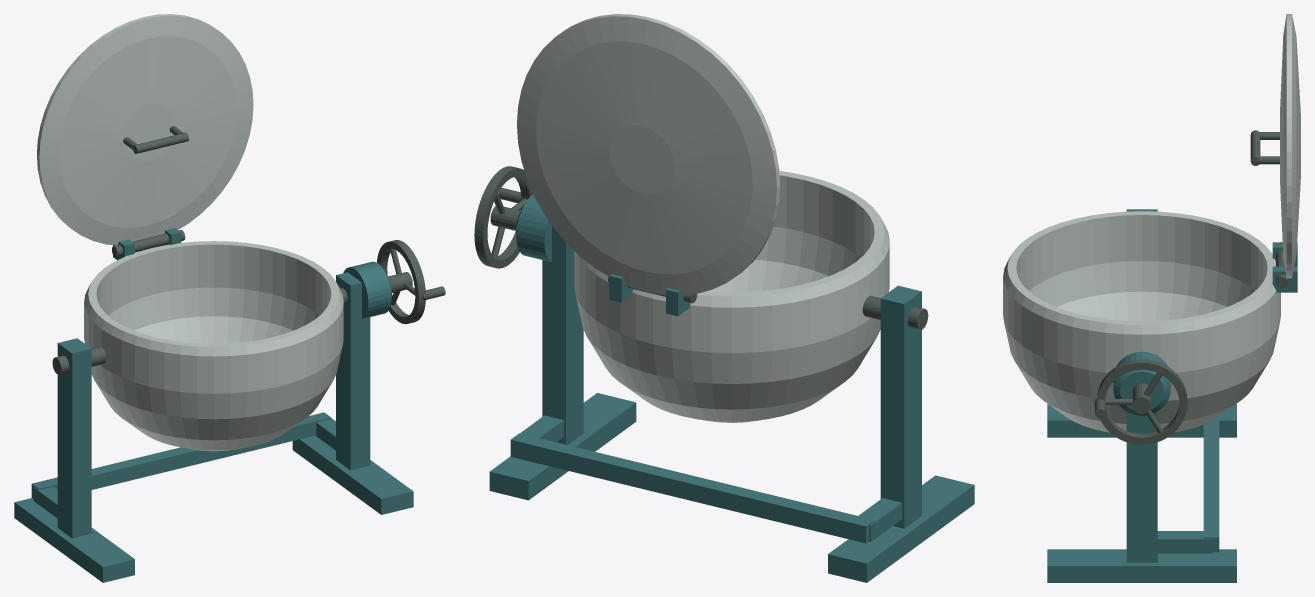
3 renders of one model, left to right at view 1: azimuth 30°, elevation 25°; view 2: azimuth 150°, elevation 25°; view 3: azimuth 270°, elevation 25°, orthographic. The views are drawn at different scales.
Visible parts, largest first — view 1: WholeThickRoundedBowlAndEmptyInterior, WholeRaisedShallowDomedLid, WholeLeftTrunnionEndPost, WholeRightTrunnionEndPost, WholeRearLowCrossbar, WholeLeftForeAftGroundFoot, WholeRightForeAftGroundFoot, WholeSideControlCase, WholeOpenHandwheelRim, WholeTransverseRearHingePin; view 2: WholeRaisedShallowDomedLid, WholeThickRoundedBowlAndEmptyInterior, WholeRearLowCrossbar, WholeLeftTrunnionEndPost, WholeRightTrunnionEndPost, WholeLeftForeAftGroundFoot, WholeRightForeAftGroundFoot, WholeOpenHandwheelRim, WholeSideControlCase, WholeLeftRearFootConnector, WholeLeftFixedSideTrunnion, WholeRightRearFootConnector; view 3: WholeThickRoundedBowlAndEmptyInterior, WholeRightForeAftGroundFoot, WholeRaisedShallowDomedLid, WholeRightTrunnionEndPost, WholeOpenHandwheelRim, WholeRearLowCrossbar, WholeLeftForeAftGroundFoot, WholeSideControlCase, WholeRightRearFootConnector, WholeHandwheelHub, WholeRightRearHingeBracket.
Boxes of the visible parts, left/top/right/bottom form: WholeThickRoundedBowlAndEmptyInterior: left=84, top=241, right=343, bottom=451; WholeRaisedShallowDomedLid: left=37, top=14, right=253, bottom=245; WholeLeftTrunnionEndPost: left=57, top=338, right=91, bottom=538; WholeRightTrunnionEndPost: left=336, top=272, right=370, bottom=470; WholeRearLowCrossbar: left=31, top=412, right=331, bottom=498; WholeLeftForeAftGroundFoot: left=14, top=498, right=134, bottom=582; WholeRightForeAftGroundFoot: left=292, top=435, right=413, bottom=514; WholeSideControlCase: left=343, top=261, right=391, bottom=318; WholeOpenHandwheelRim: left=377, top=240, right=425, bottom=324; WholeTransverseRearHingePin: left=112, top=230, right=185, bottom=256; WholeRaisedShallowDomedLid: left=517, top=14, right=780, bottom=295; WholeThickRoundedBowlAndEmptyInterior: left=574, top=171, right=889, bottom=422; WholeRearLowCrossbar: left=510, top=433, right=874, bottom=543; WholeLeftTrunnionEndPost: left=880, top=285, right=921, bottom=528; WholeRightTrunnionEndPost: left=542, top=226, right=583, bottom=444; WholeLeftForeAftGroundFoot: left=828, top=475, right=974, bottom=582; WholeRightForeAftGroundFoot: left=489, top=393, right=636, bottom=500; WholeOpenHandwheelRim: left=474, top=166, right=532, bottom=268; WholeSideControlCase: left=515, top=194, right=551, bottom=262; WholeLeftRearFootConnector: left=858, top=498, right=902, bottom=541; WholeLeftFixedSideTrunnion: left=862, top=295, right=928, bottom=329; WholeRightRearFootConnector: left=520, top=415, right=563, bottom=442; WholeThickRoundedBowlAndEmptyInterior: left=1003, top=211, right=1280, bottom=432; WholeRightForeAftGroundFoot: left=1047, top=549, right=1236, bottom=582; WholeRaisedShallowDomedLid: left=1280, top=14, right=1300, bottom=278; WholeRightTrunnionEndPost: left=1126, top=354, right=1157, bottom=562; WholeOpenHandwheelRim: left=1097, top=359, right=1187, bottom=444; WholeRearLowCrossbar: left=1203, top=416, right=1219, bottom=552; WholeLeftForeAftGroundFoot: left=1047, top=404, right=1236, bottom=437; WholeSideControlCase: left=1113, top=351, right=1170, bottom=415; WholeRightRearFootConnector: left=1157, top=531, right=1212, bottom=553; WholeHandwheelHub: left=1132, top=383, right=1151, bottom=413; WholeRightRearHingeBracket: left=1272, top=266, right=1297, bottom=292.
Size of the model in its own units: 2.06 by 2.38 by 1.35.
